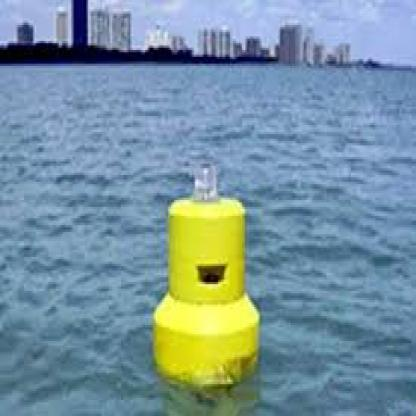buoy: (145, 150, 265, 391)
